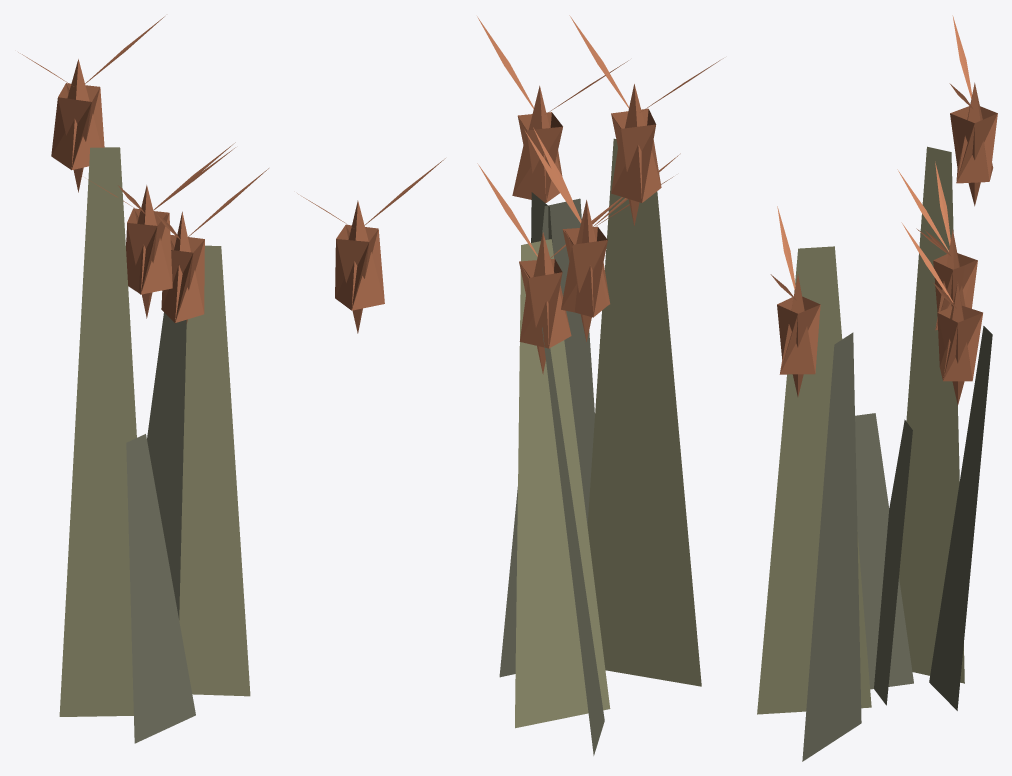
File: nong.mai@fruiting__winter.glb
The picture shows the model from 3 angles, left to right: view 1: azimuth 30°, elevation 25°; view 2: azimuth 150°, elevation 25°; view 3: azimuth 270°, elevation 25°; orthographic projection. The views are drawn at different scales.
Visible parts, largest first — view 1: nong.mai@fruiting__winter; view 2: nong.mai@fruiting__winter; view 3: nong.mai@fruiting__winter.
Part boxes in pixels (bbox=[...]): nong.mai@fruiting__winter: bbox=[18, 16, 445, 743]; nong.mai@fruiting__winter: bbox=[477, 15, 723, 755]; nong.mai@fruiting__winter: bbox=[757, 15, 997, 761].
Size of the model in its own units: 0.5635 by 1.09 by 0.3787.
